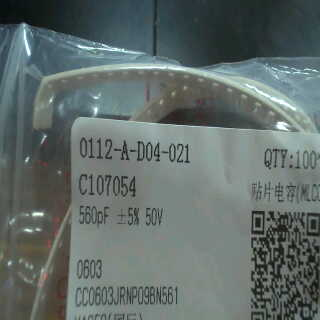560pF: (75, 203, 113, 230)
